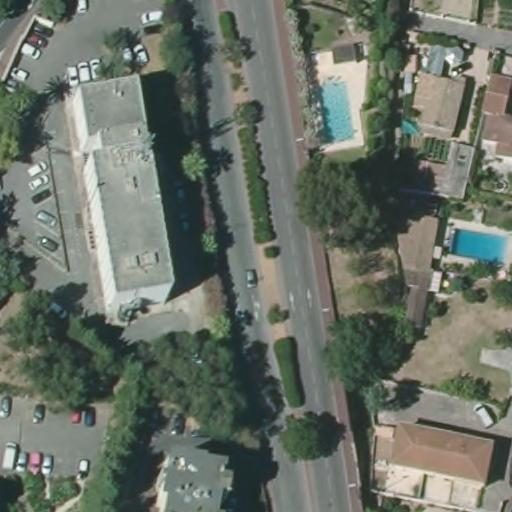pool: (312, 73, 357, 142), (447, 223, 511, 263)
